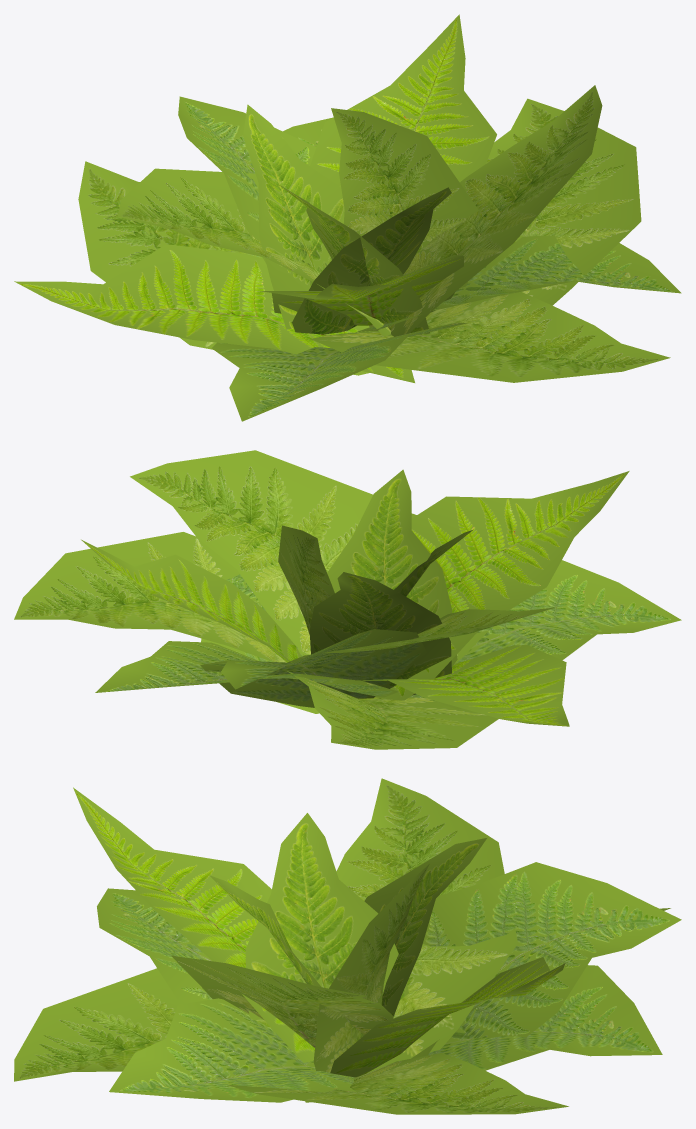
Rendered from Fern_01.fbx.
3 views of the same model, one above another, from view 1: azimuth 30°, elevation 25°; view 2: azimuth 150°, elevation 25°; view 3: azimuth 270°, elevation 25° (orthographic). The views are drawn at different scales.
Visible parts, largest first — view 1: Fern_01; view 2: Fern_01; view 3: Fern_01.
Part boxes in pixels (x1,y1,x2,y2): Fern_01: [14, 14, 681, 421]; Fern_01: [14, 450, 681, 749]; Fern_01: [14, 778, 681, 1114].
Size of the model in its own units: 111 by 39.45 by 105.
1 material, 1 textured.
